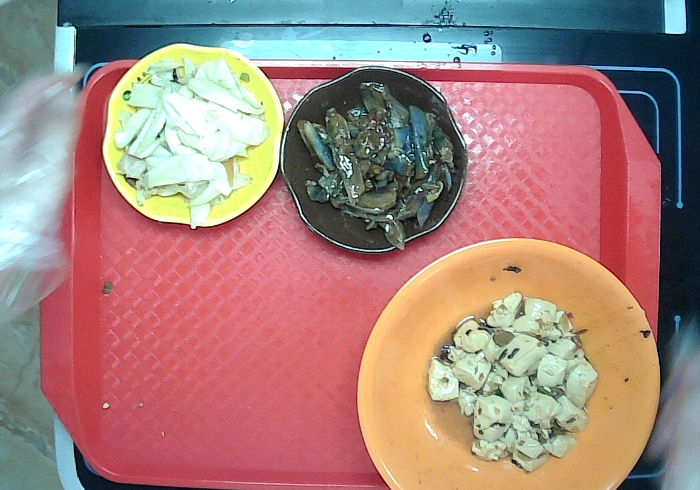YKMZ-Huang_Se_Ao_Bian_Wan: (100, 41, 286, 228)
YKMZ-Ju_Se_Tang_Wan: (355, 235, 662, 490)
YKMZ-Ka_Fei_Ao_Bian_Wan: (279, 64, 469, 255)
